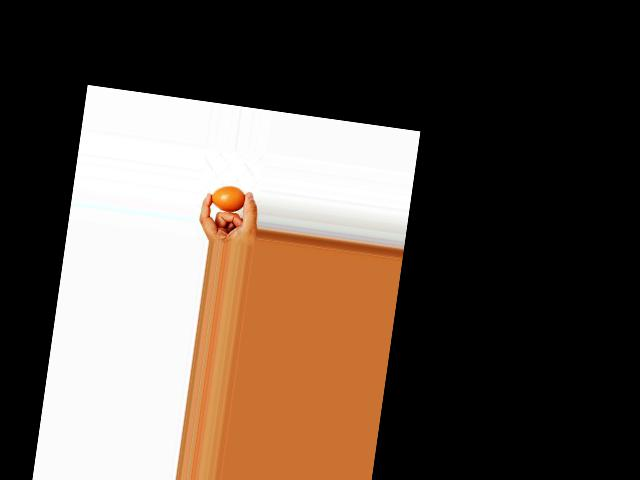egg: (209, 183, 246, 213)
